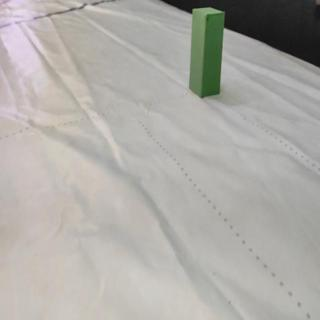greenbox: (189, 6, 225, 98)
